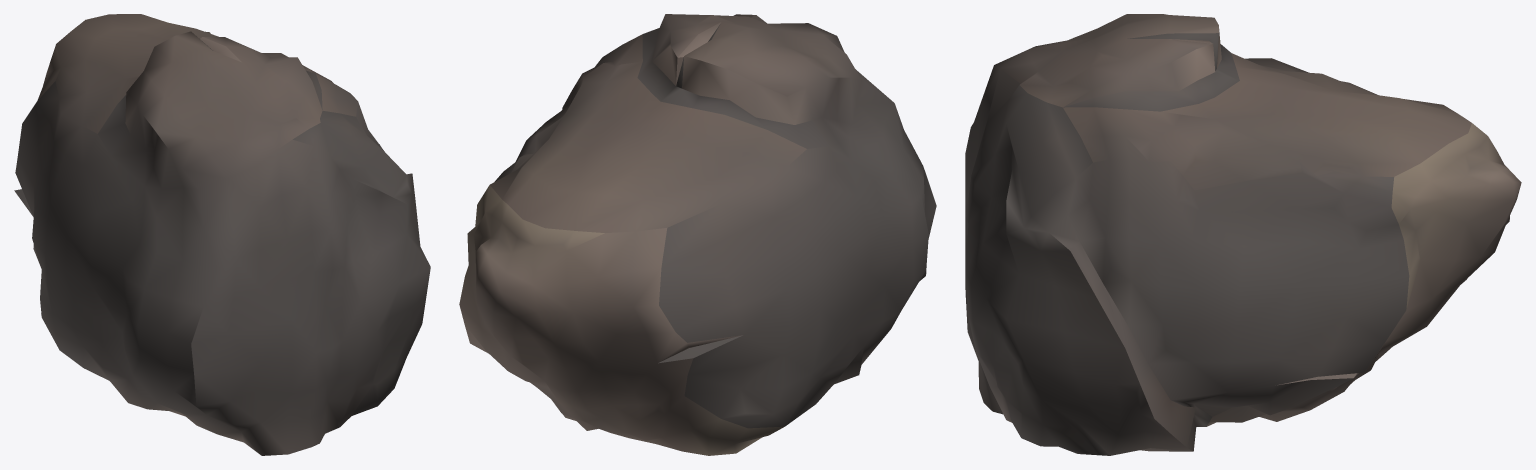
The model's file is RockHuge.004.glb.
The picture shows the model from 3 angles, left to right: view 1: azimuth 30°, elevation 25°; view 2: azimuth 150°, elevation 25°; view 3: azimuth 270°, elevation 25°; orthographic projection. The views are drawn at different scales.
Parts seen in each view (by area): view 1: RockHuge.004; view 2: RockHuge.004; view 3: RockHuge.004.
Boxes of the visible parts, left/top/right/bottom form: RockHuge.004: left=14, top=14, right=430, bottom=455; RockHuge.004: left=459, top=14, right=936, bottom=455; RockHuge.004: left=965, top=14, right=1521, bottom=455.
Size of the model in its own units: 2058 by 2170 by 2867.
